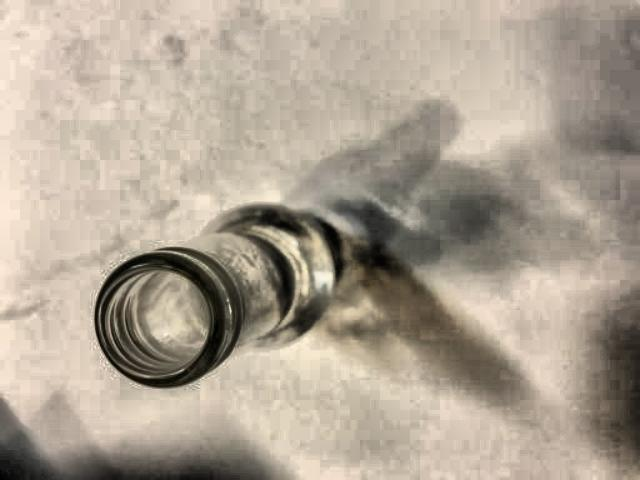Bottles: (75, 166, 361, 386)
